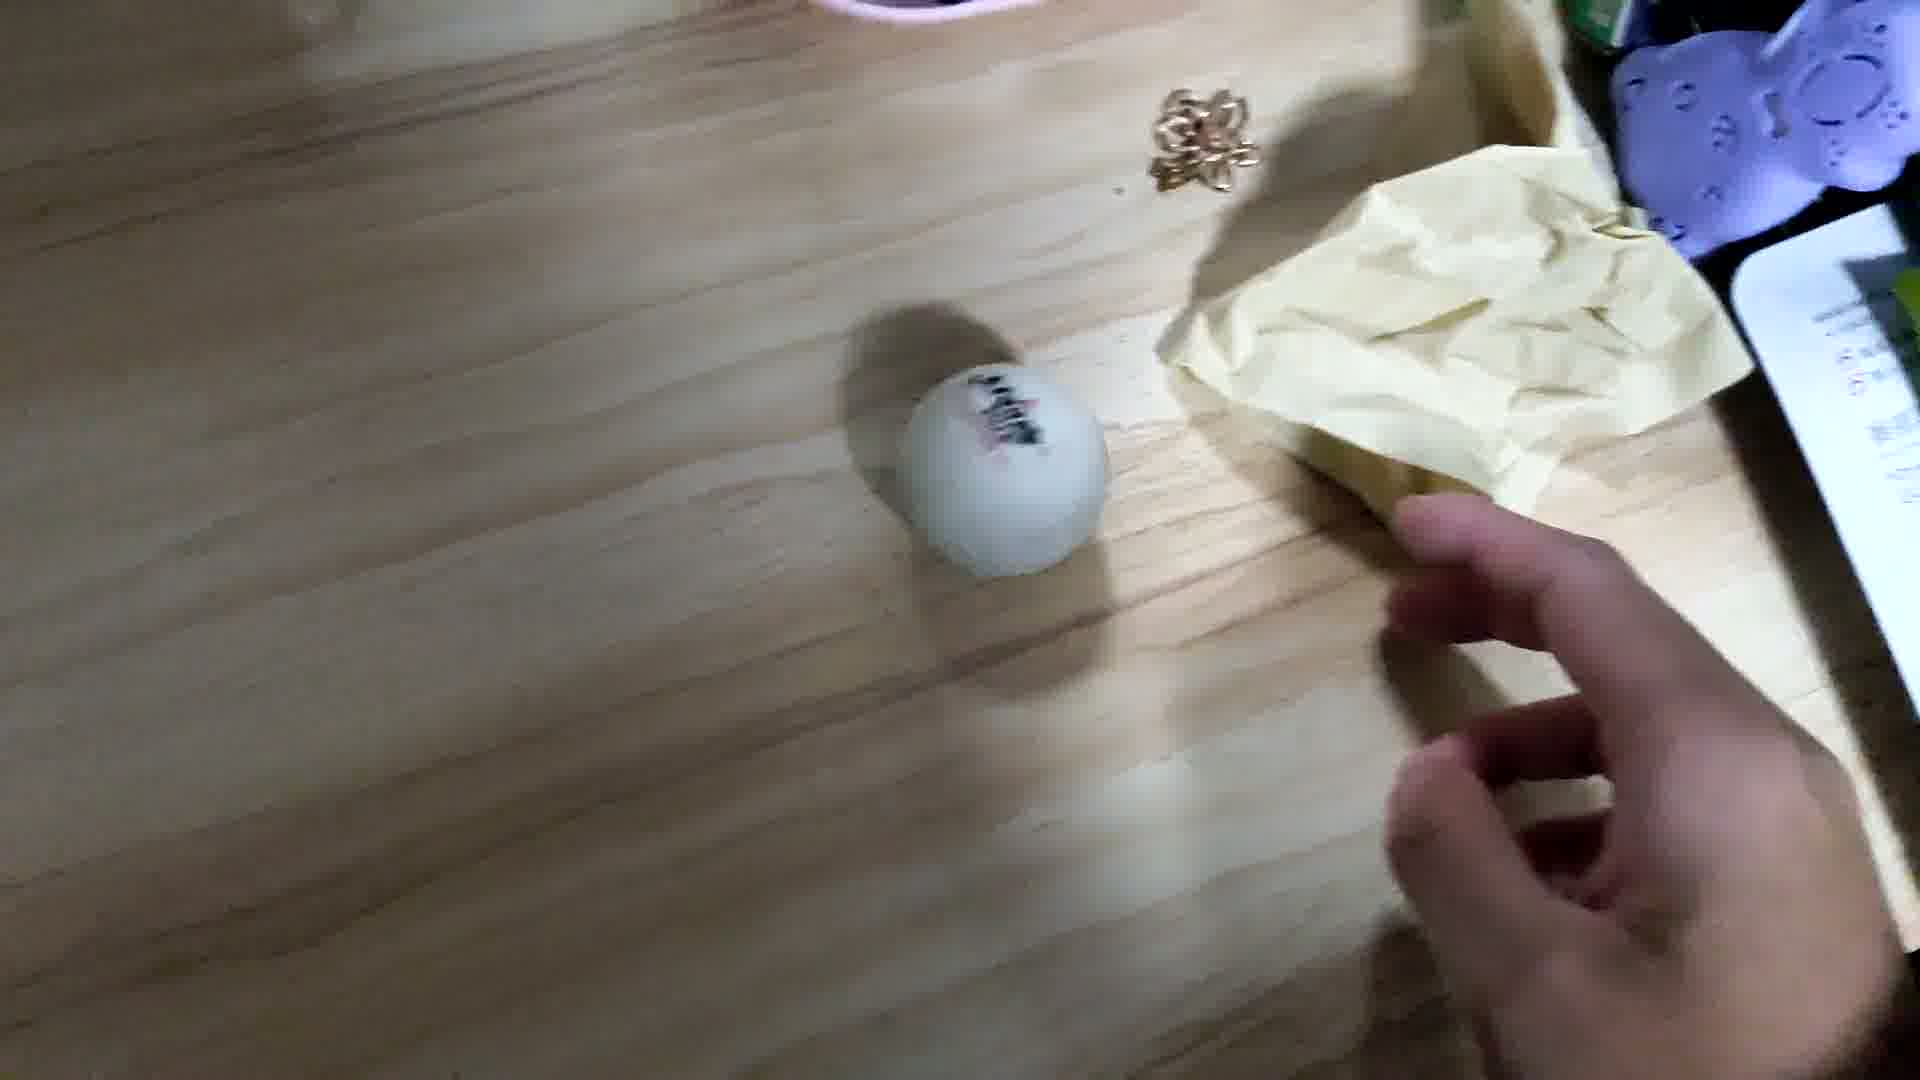Ball: (899, 361, 1114, 578)
